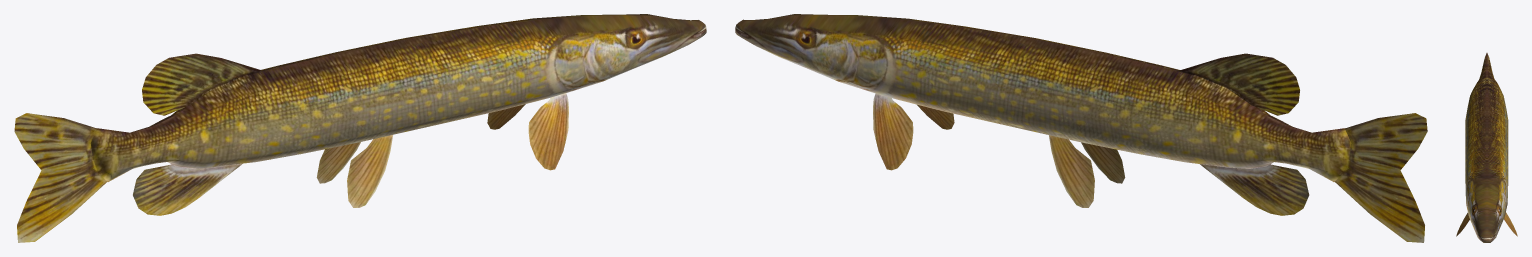
Rendered from NorthernPike.glb.
3 views of the same model, side by side, from view 1: azimuth 30°, elevation 25°; view 2: azimuth 150°, elevation 25°; view 3: azimuth 270°, elevation 25° (orthographic). The views are drawn at different scales.
Parts seen in each view (by area): view 1: NorthernPike; view 2: NorthernPike; view 3: NorthernPike.
Boxes of the visible parts, box(x1,y1,x2,y2) form: NorthernPike: box(14, 14, 706, 242); NorthernPike: box(735, 14, 1427, 242); NorthernPike: box(1456, 53, 1517, 242).
Bounding box in the file's own units: 2 × 0.498 × 0.2784.
Materials: 1 (1 with a texture image).
